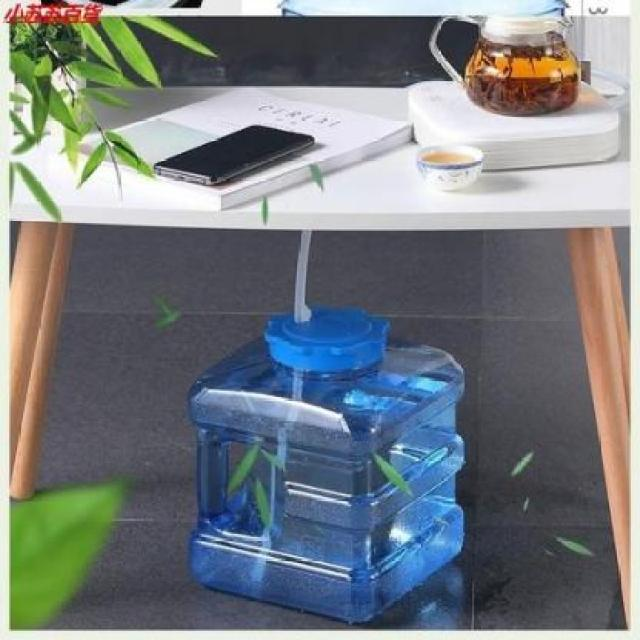coolerbottle: (182, 304, 476, 624)
